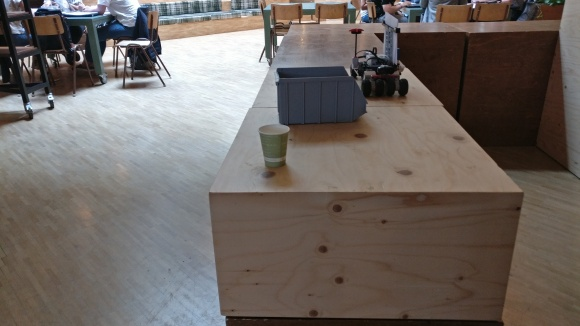cup: (257, 122, 290, 168)
tray: (272, 63, 369, 127)
